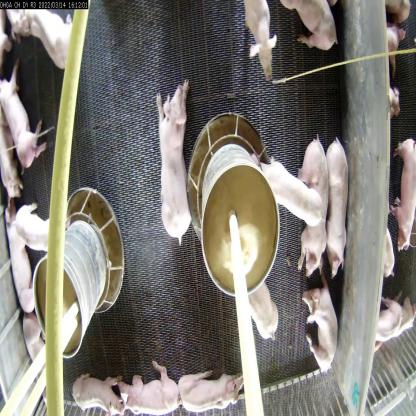Pig: (152, 70, 198, 246), (260, 152, 320, 244), (0, 63, 46, 175), (297, 128, 329, 273), (298, 283, 336, 379), (67, 362, 134, 415), (12, 189, 66, 254), (184, 366, 253, 416), (246, 268, 286, 351), (327, 141, 351, 276), (121, 365, 182, 415), (4, 213, 27, 334), (244, 0, 282, 70)
